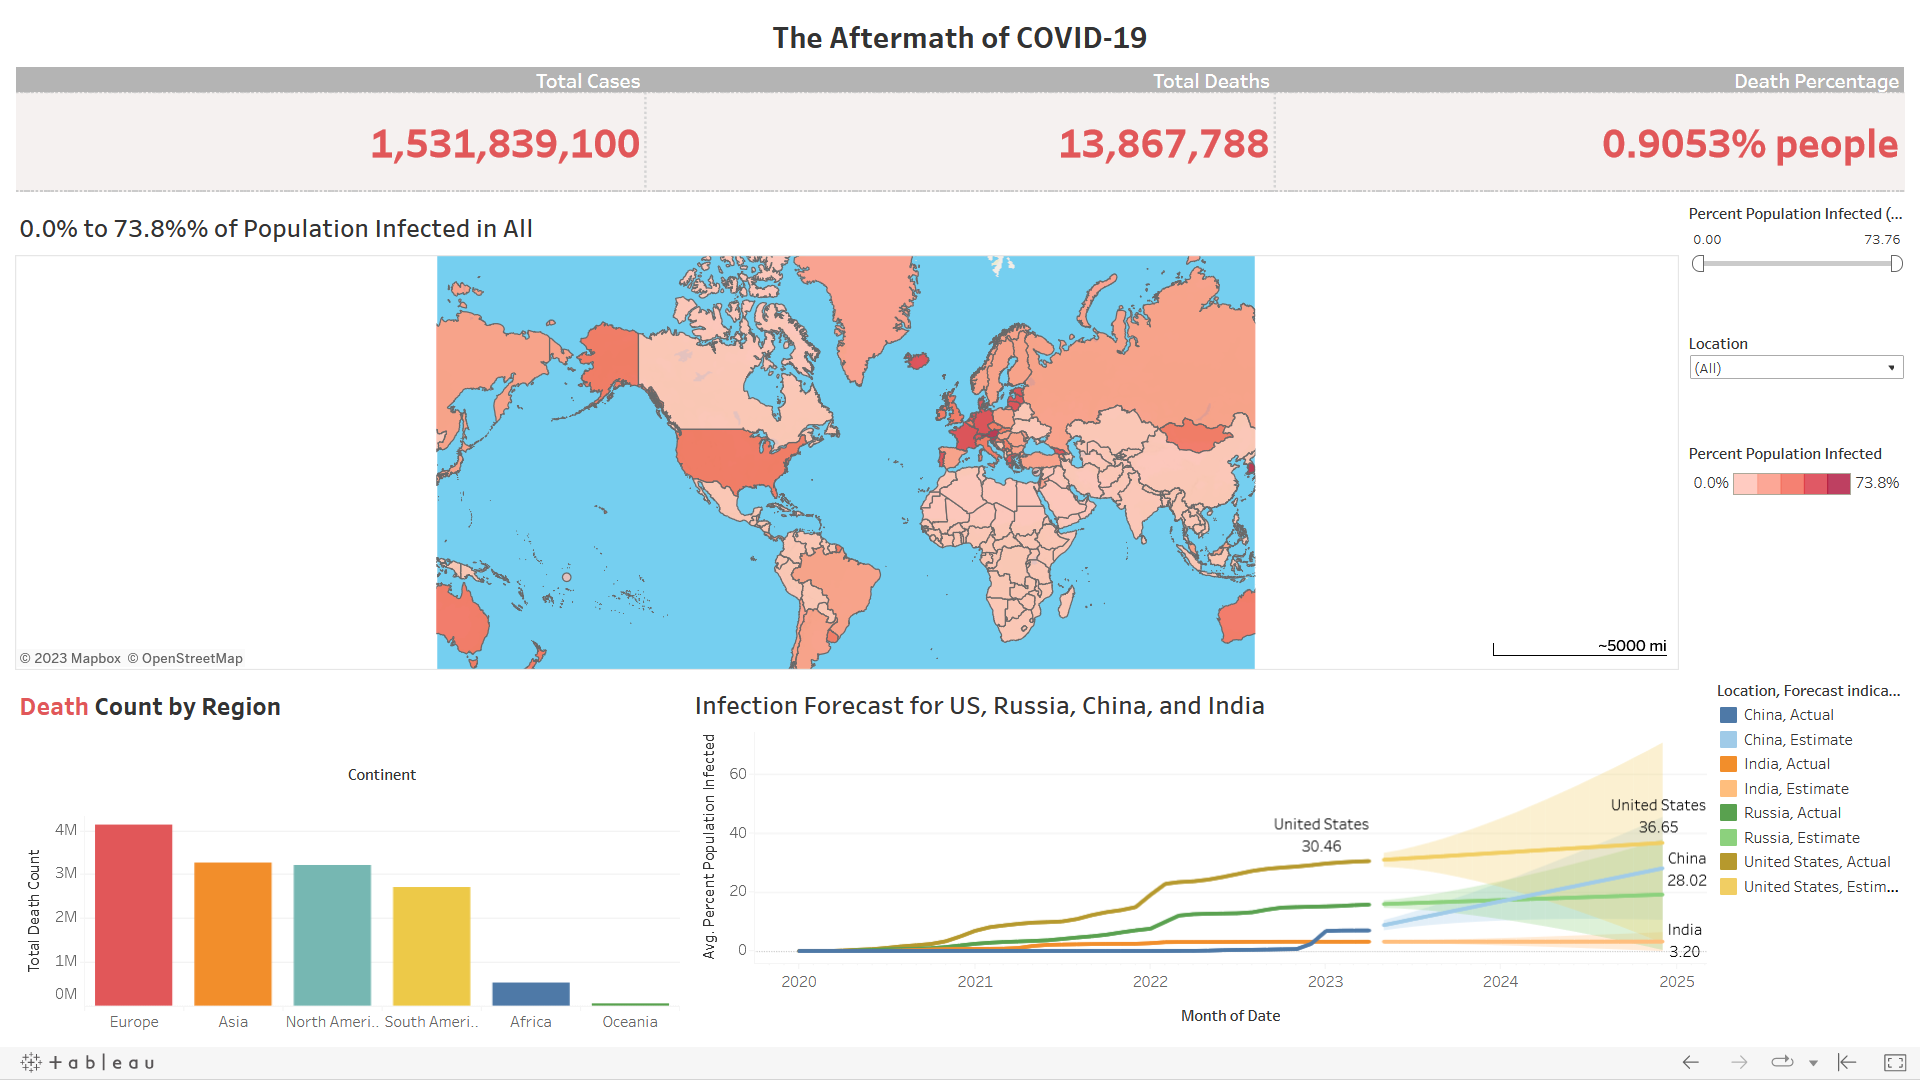

This screenshot's page, from the dashboard's own definition file:
{"tool":"tableau","page":{"name":"Dashboard 1","canvas":[1000,1000],"units":"permille","ordinal":0},"visuals":[{"type":"title","box":[4.7,8.9,990.6,45.8]},{"type":"worksheet","title":"Sheet 1","mark":"Automatic","box":[4.7,54.7,990.6,130.3]},{"type":"worksheet","title":"Sheet 3","mark":"Automatic","box":[4.7,185,872.4,460.1]},{"type":"filter","title":"Sheet 3","param":"[federated.1y3c2fo1oqkc2c16lne4w174bmj3].[sum:Percent Population Infected (copy)","box":[877.1,185,118.2,118.3]},{"type":"filter","title":"Sheet 3","param":"[federated.1y3c2fo1oqkc2c16lne4w174bmj3].[none:Location:nk]","box":[877.1,303.3,118.2,101.6]},{"type":"legend","title":"Sheet 3","param":"[federated.1y3c2fo1oqkc2c16lne4w174bmj3].[sum:PercentPopulationInfected:qk]","box":[877.1,404.9,118.2,204.2]},{"type":"worksheet","title":"Sheet 2","mark":"Automatic","rows":["TotalDeathCount"],"cols":["location"],"box":[4.7,645.1,351.7,346]},{"type":"worksheet","title":"Sheet 4","mark":"Automatic","rows":["PercentPopulationInfected"],"cols":["date"],"box":[356.3,645.1,535.5,346]},{"type":"legend","title":"Sheet 4","param":"[federated.0fmjw9i1xtt8se16hsmpf0yt7iun].[none:Location:nk]\n[federated.0fmjw9i1x","box":[891.9,645.1,103.4,346]}]}

Visuals, with their boxes on the dashboard's canvas, which has no fixed pixel size, in thousandths of its width and height (x1, y1, x2, y2). These are canvas units, not pixel positions in the 1920x1080 screenshot, which may show the page scaled, cropped or inside an application window:
title: crop(5, 9, 995, 55)
"Sheet 1" worksheet: crop(5, 55, 995, 185)
"Sheet 3" worksheet: crop(5, 185, 877, 645)
"Sheet 3" filter: crop(877, 185, 995, 303)
"Sheet 3" filter: crop(877, 303, 995, 405)
"Sheet 3" legend: crop(877, 405, 995, 609)
"Sheet 2" worksheet: crop(5, 645, 356, 991)
"Sheet 4" worksheet: crop(356, 645, 892, 991)
"Sheet 4" legend: crop(892, 645, 995, 991)
